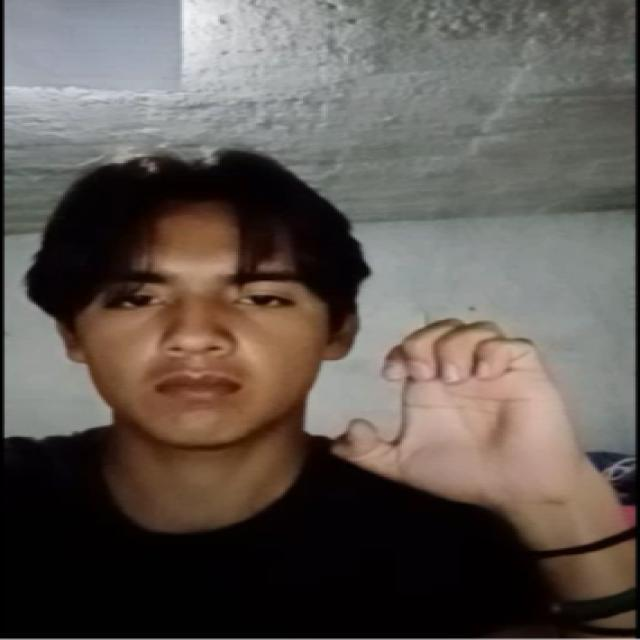E: (294, 290, 618, 524)
